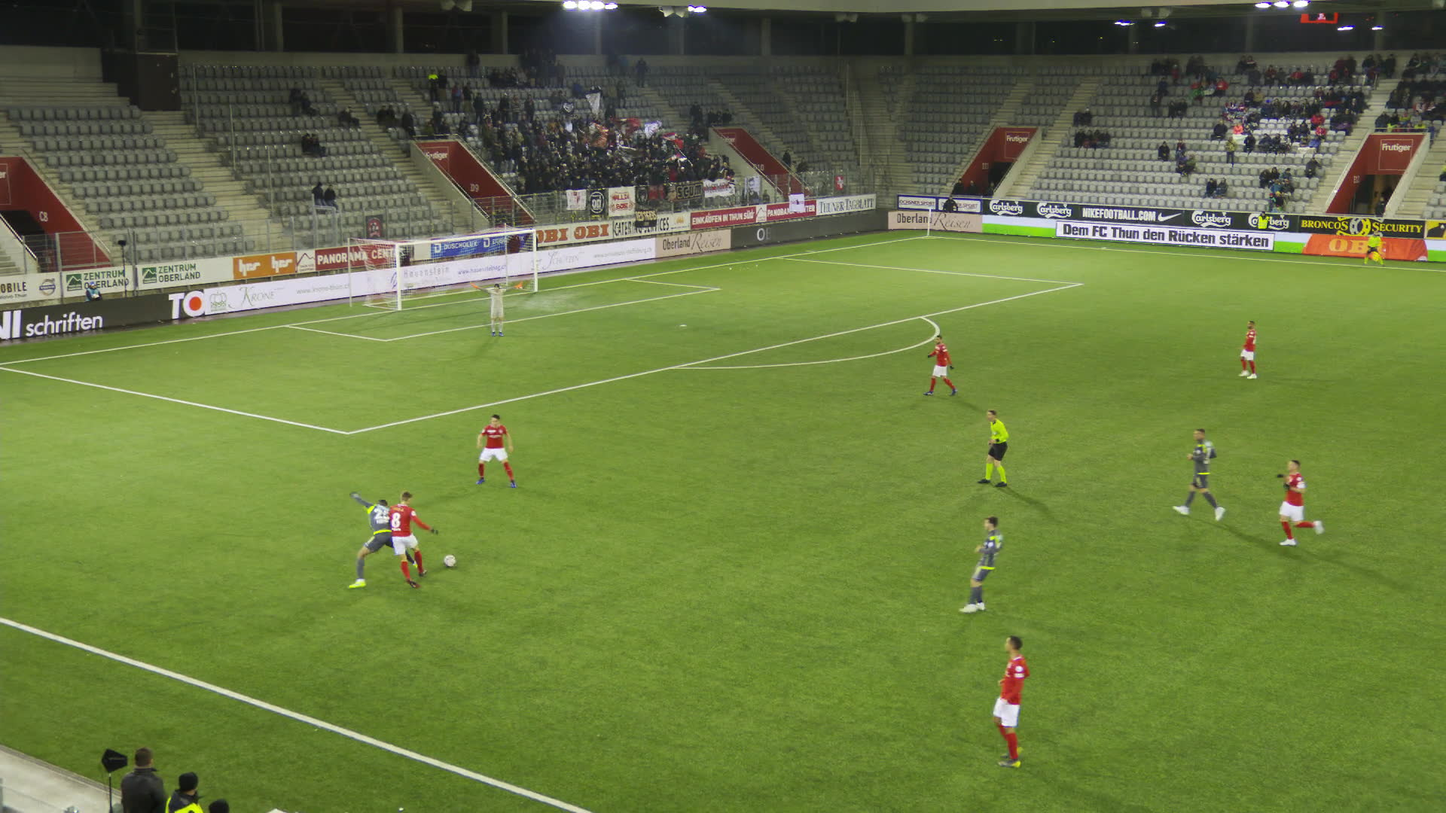ball: (442, 553, 456, 567)
player: (341, 486, 418, 590), (981, 628, 1035, 772), (1170, 421, 1233, 525), (384, 487, 445, 590), (951, 514, 1007, 616), (1269, 451, 1326, 549), (468, 410, 520, 491), (465, 273, 527, 338), (919, 331, 960, 399), (1234, 317, 1265, 384)
referee: (970, 404, 1020, 487), (1359, 227, 1384, 269)
